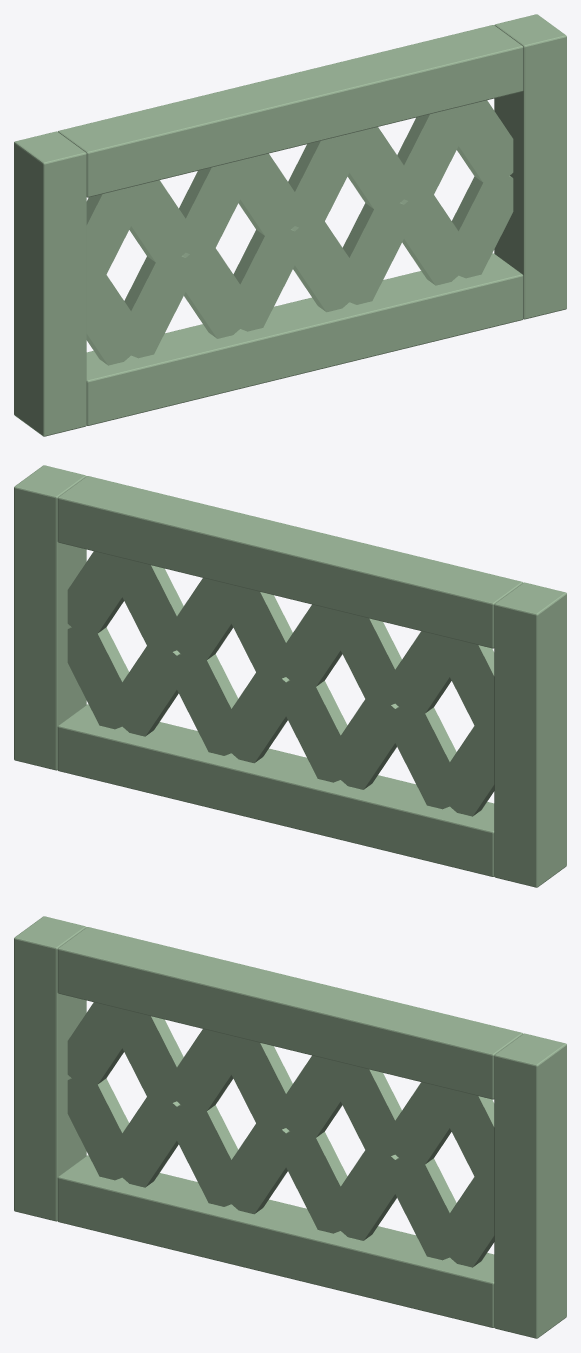
The picture shows the model from 3 angles, top to bottom: view 1: azimuth 30°, elevation 25°; view 2: azimuth 150°, elevation 25°; view 3: azimuth 330°, elevation 25°; orthographic projection.
Parts seen in each view (by area): view 1: VENT_FrameTop, VENT_FrameBottom, VENT_FrameSide, VENT_FrameSide.001, VENT_Diamond_2_2, VENT_Diamond_3_2, VENT_Diamond_3_0, VENT_Diamond_1_2, VENT_Diamond_1_1, VENT_Diamond_2_1, VENT_Diamond_1_0, VENT_Diamond_0_2 (+8 smaller); view 2: VENT_FrameTop, VENT_FrameBottom, VENT_FrameSide, VENT_FrameSide.001, VENT_Diamond_1_2, VENT_Diamond_0_2, VENT_Diamond_3_2, VENT_Diamond_2_2, VENT_Diamond_1_0, VENT_Diamond_2_0, VENT_Diamond_1_1, VENT_Diamond_3_1 (+8 smaller); view 3: VENT_FrameTop, VENT_FrameBottom, VENT_FrameSide.001, VENT_FrameSide, VENT_Diamond_0_3, VENT_Diamond_3_3, VENT_Diamond_2_3, VENT_Diamond_2_0, VENT_Diamond_1_3, VENT_Diamond_2_1, VENT_Diamond_0_0, VENT_Diamond_3_0 (+8 smaller).
Part boxes in pixels (x1,y1,x2,y2): VENT_FrameTop: [58, 25, 523, 197]; VENT_FrameBottom: [86, 253, 523, 425]; VENT_FrameSide: [14, 131, 86, 436]; VENT_FrameSide.001: [494, 14, 566, 319]; VENT_Diamond_2_2: [331, 196, 418, 304]; VENT_Diamond_3_2: [440, 175, 513, 278]; VENT_Diamond_3_0: [390, 105, 476, 207]; VENT_Diamond_1_2: [222, 229, 308, 331]; VENT_Diamond_1_1: [222, 153, 308, 245]; VENT_Diamond_2_1: [331, 127, 418, 208]; VENT_Diamond_1_0: [172, 158, 258, 261]; VENT_Diamond_0_2: [113, 255, 199, 358]; VENT_FrameTop: [57, 476, 522, 648]; VENT_FrameBottom: [57, 704, 494, 876]; VENT_FrameSide: [494, 582, 566, 887]; VENT_FrameSide.001: [14, 465, 86, 770]; VENT_Diamond_1_2: [272, 673, 358, 782]; VENT_Diamond_0_2: [381, 700, 467, 809]; VENT_Diamond_3_2: [67, 620, 140, 729]; VENT_Diamond_2_2: [163, 647, 249, 755]; VENT_Diamond_1_0: [326, 610, 409, 712]; VENT_Diamond_2_0: [213, 583, 299, 678]; VENT_Diamond_1_1: [272, 604, 359, 686]; VENT_Diamond_3_1: [67, 551, 140, 639]; VENT_FrameTop: [57, 927, 522, 1099]; VENT_FrameBottom: [57, 1155, 494, 1327]; VENT_FrameSide.001: [494, 1033, 566, 1338]; VENT_FrameSide: [14, 916, 86, 1221]; VENT_Diamond_0_3: [67, 1071, 140, 1180]; VENT_Diamond_3_3: [383, 1151, 467, 1260]; VENT_Diamond_2_3: [283, 1131, 358, 1233]; VENT_Diamond_2_0: [273, 1055, 359, 1147]; VENT_Diamond_1_3: [177, 1104, 249, 1206]; VENT_Diamond_2_1: [328, 1061, 408, 1163]; VENT_Diamond_0_0: [67, 1002, 140, 1094]; VENT_Diamond_3_0: [383, 1082, 468, 1172].
Size of the model in its own units: 1.2 by 0.6 by 0.12.
